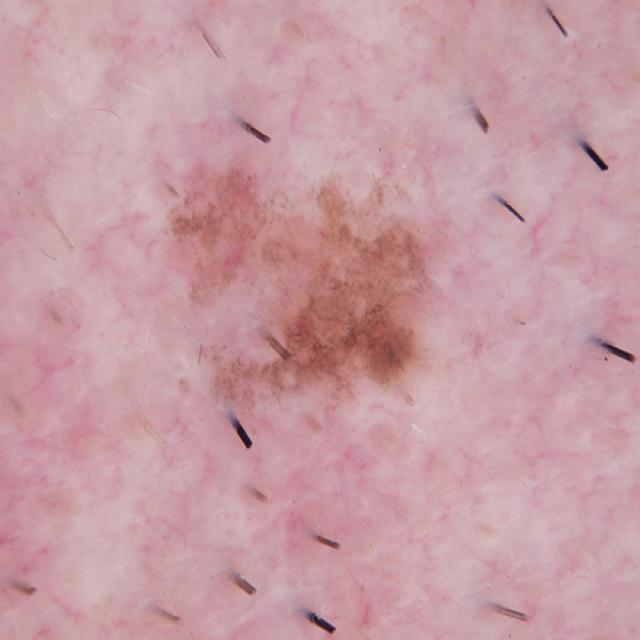Skin-Cancer Pigmented benign keratosis: (46, 23, 543, 616)
